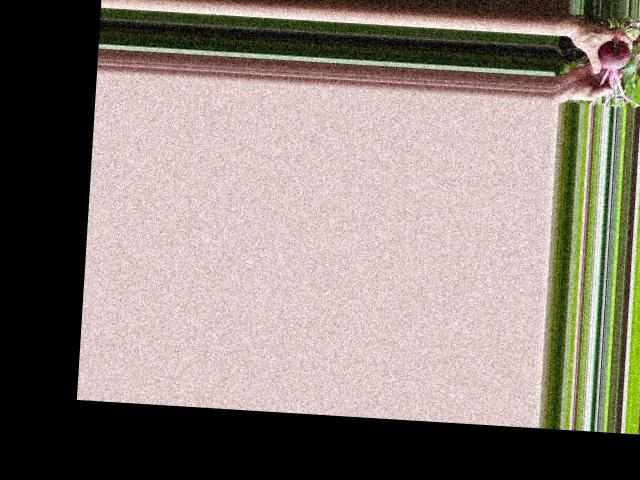beet: (593, 38, 640, 108)
